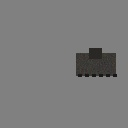armoured_vehicle: (76, 53, 116, 76)
